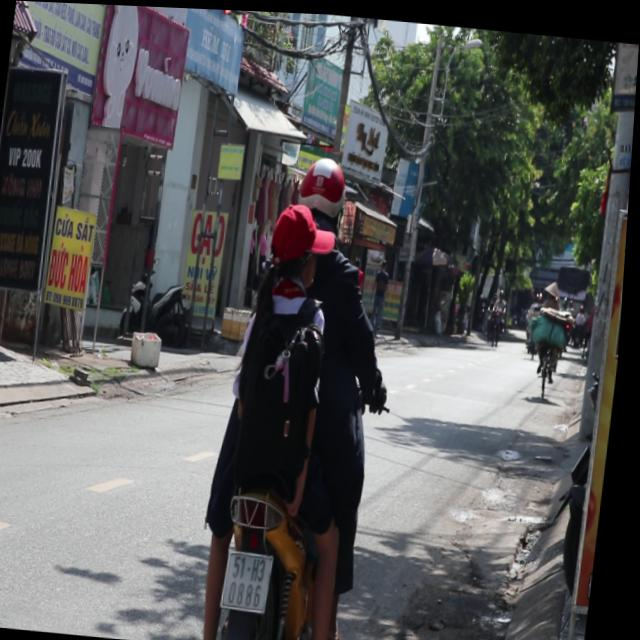helmet: (295, 151, 355, 227)
licenseplate: (194, 138, 413, 640)
motorcyclist: (266, 195, 342, 296)
nohelmet: (230, 549, 279, 607)
